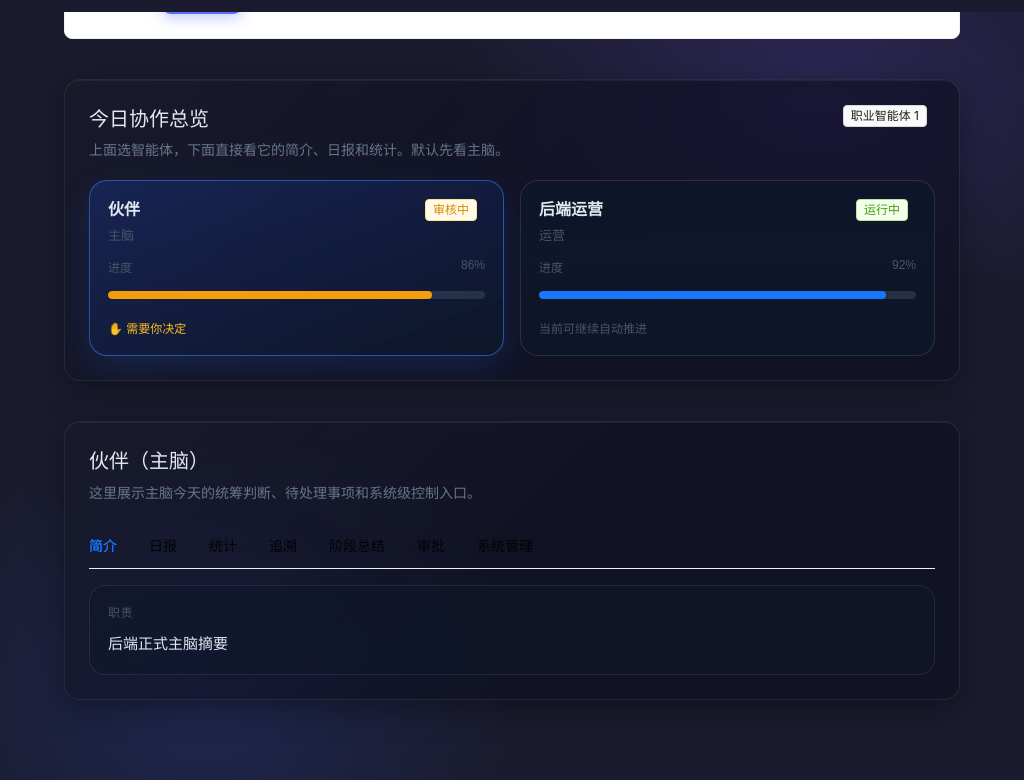
Test case: RuntimeCenterPage › prefers backend cockpit content when the formal cockpit payload is present
(page scrolled)
Expected: the text "后端正式主脑摘要" is shown, [108,634,228,653]
Click the tab "追溯". click: (283, 546)
box: [269,535,297,557]
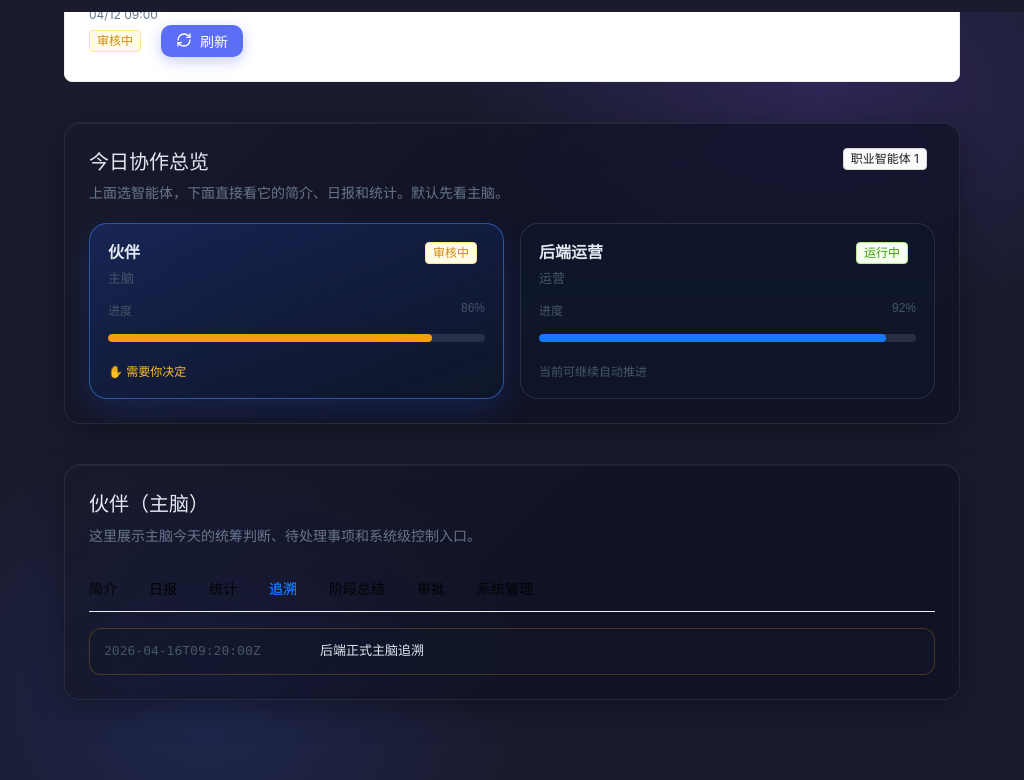
Result: the text "后端正式主脑追溯" is shown at [320,643,424,658]
Click the button "后端运营 运营 运行中 进度 92% 当前可继续自动推进". click: (571, 252)
box: [521,224,934,398]
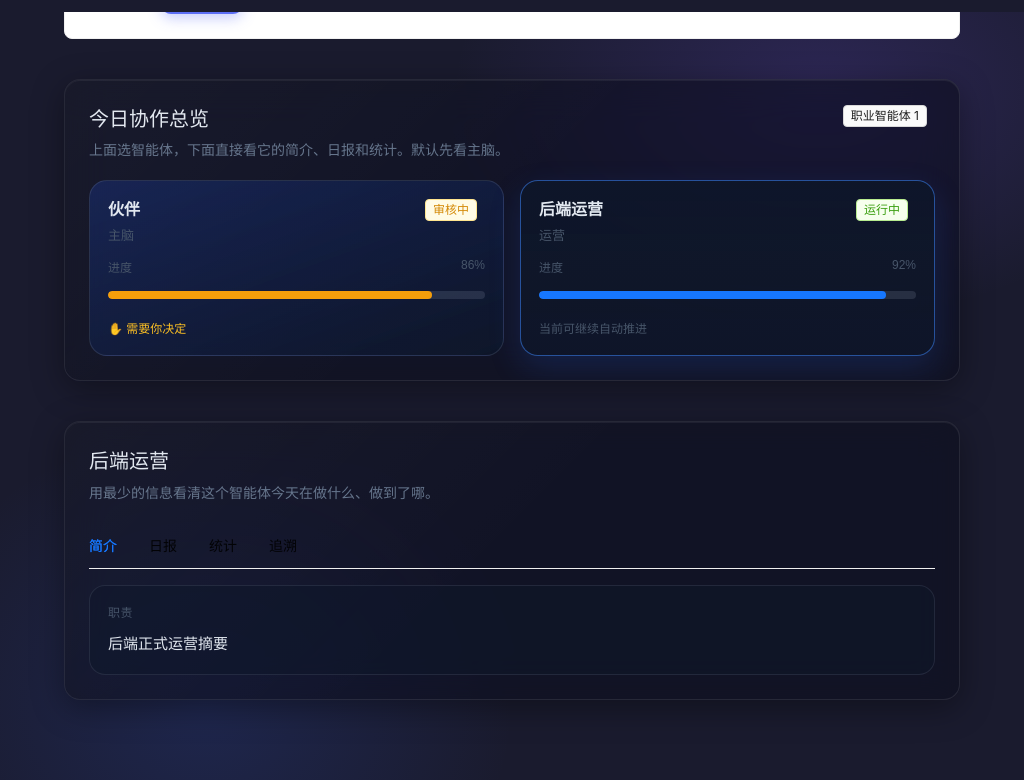
Result: the text "后端正式运营摘要" is shown at [108,634,228,653]
Click the tab "追溯". click: (283, 546)
box: [269,535,297,557]
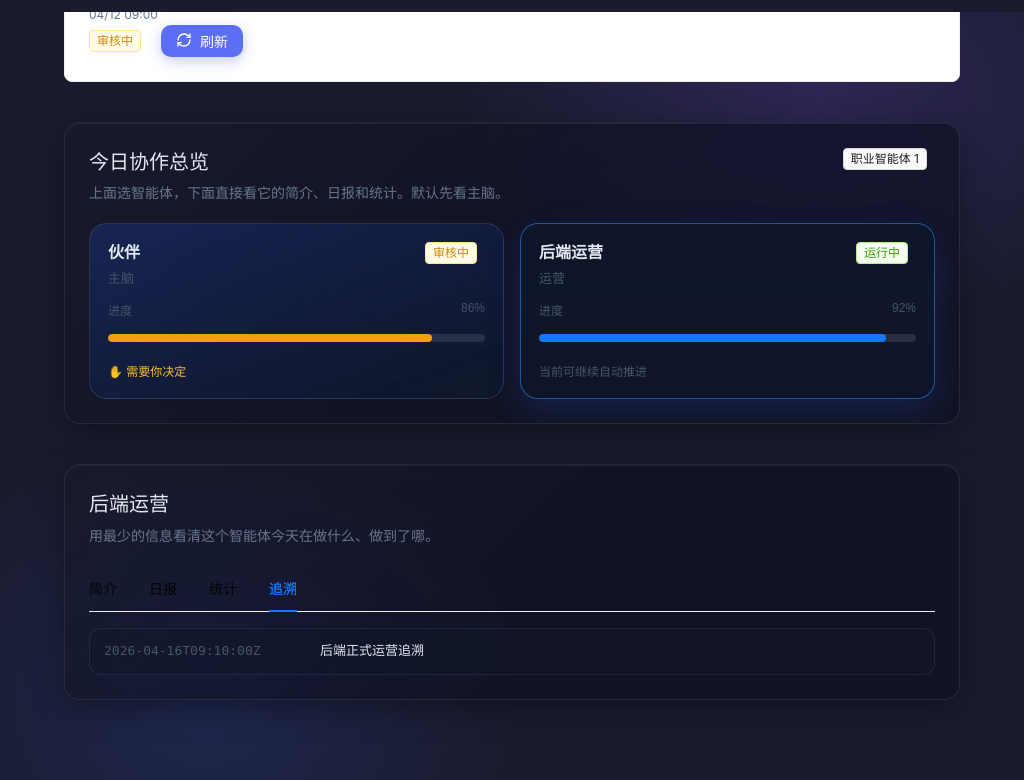
Result: the text "后端正式运营追溯" is shown at [320,643,424,658]
